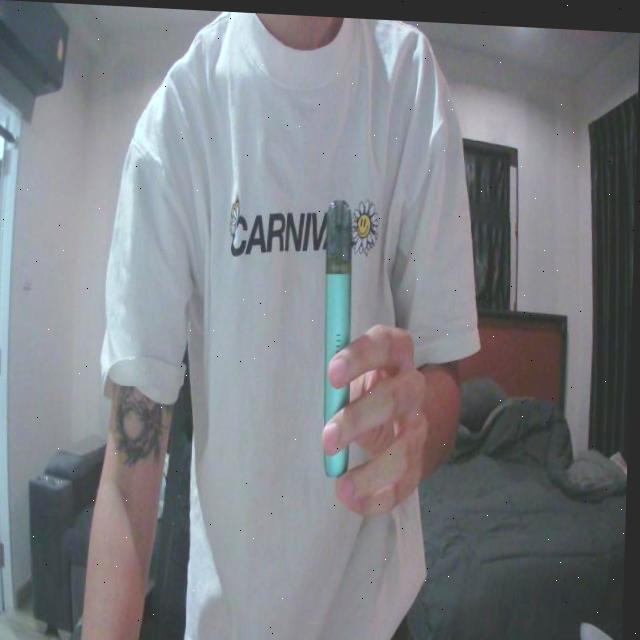vape: (320, 192, 357, 476)
